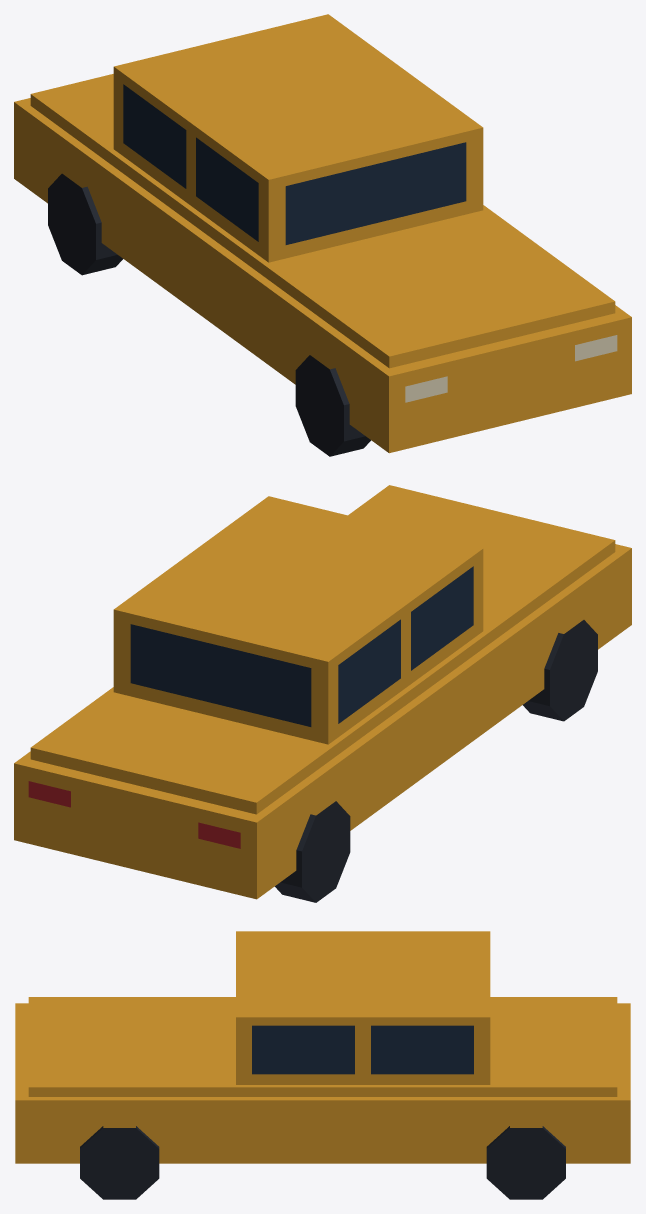
File: sedan.glb
The picture shows the model from 3 angles, top to bottom: view 1: azimuth 30°, elevation 25°; view 2: azimuth 150°, elevation 25°; view 3: azimuth 270°, elevation 25°; orthographic projection. The views are drawn at different scales.
Size of the model in its own units: 1.8 by 1.44 by 4.62.
